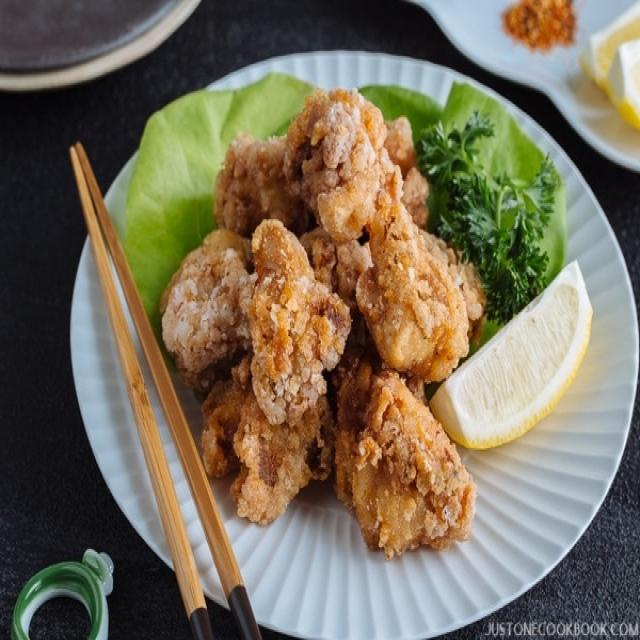Frango: (157, 84, 477, 562)
